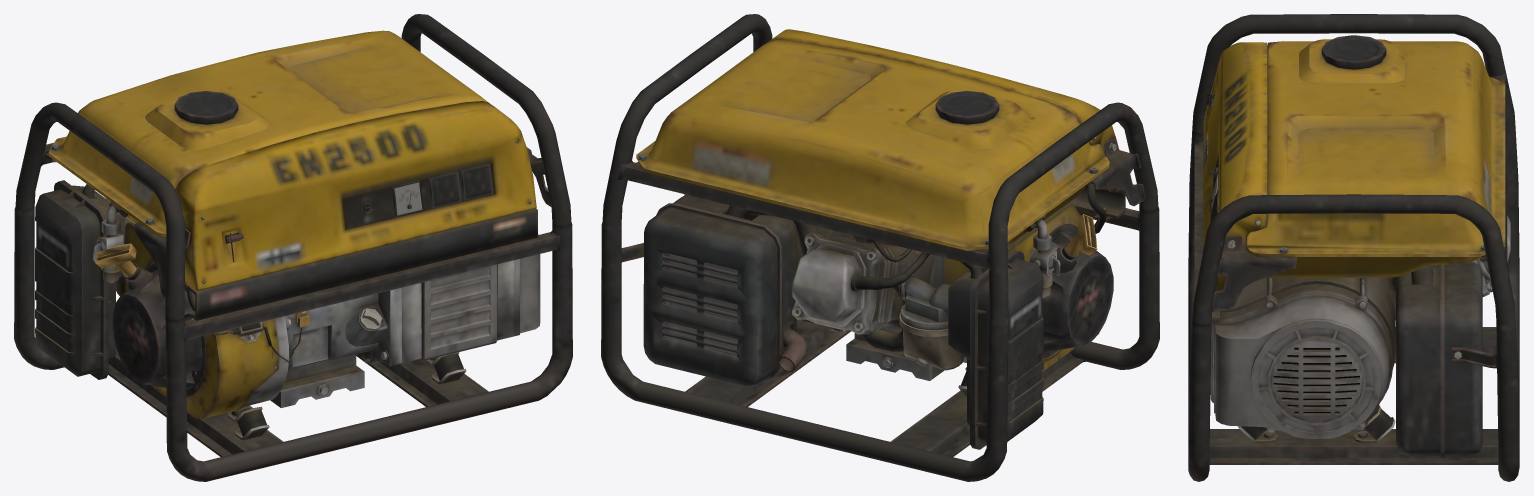
The model's file is portable_generator.a03acae809.glb.
3 renders of one model, left to right at view 1: azimuth 30°, elevation 25°; view 2: azimuth 150°, elevation 25°; view 3: azimuth 270°, elevation 25°, orthographic.
Visible parts, largest first — view 1: portable_generator; view 2: portable_generator; view 3: portable_generator.
Part boxes in pixels (<box>): portable_generator: <box>14,14,572,481</box>; portable_generator: <box>601,14,1159,481</box>; portable_generator: <box>1188,14,1519,481</box>.
Bounding box in the file's own units: 0.8169 × 0.5752 × 0.564.
Materials: 2 (2 with a texture image).
